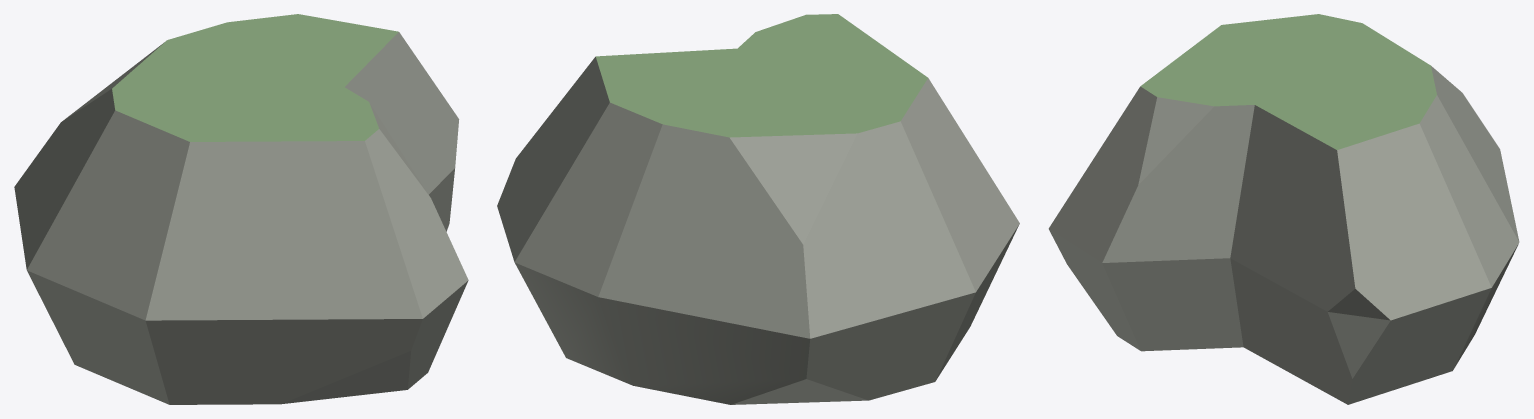
The model's file is rock-b.glb.
3 views of the same model, side by side, from view 1: azimuth 30°, elevation 25°; view 2: azimuth 150°, elevation 25°; view 3: azimuth 270°, elevation 25° (orthographic). The views are drawn at different scales.
Parts seen in each view (by area): view 1: rock_largeD; view 2: rock_largeD; view 3: rock_largeD.
Boxes of the visible parts, x1,y1,x2,y2 form: rock_largeD: (14,14,468,404); rock_largeD: (497,14,1019,404); rock_largeD: (1048,14,1519,404).
Size of the model in its own units: 3.01 by 1.6 by 2.9.
